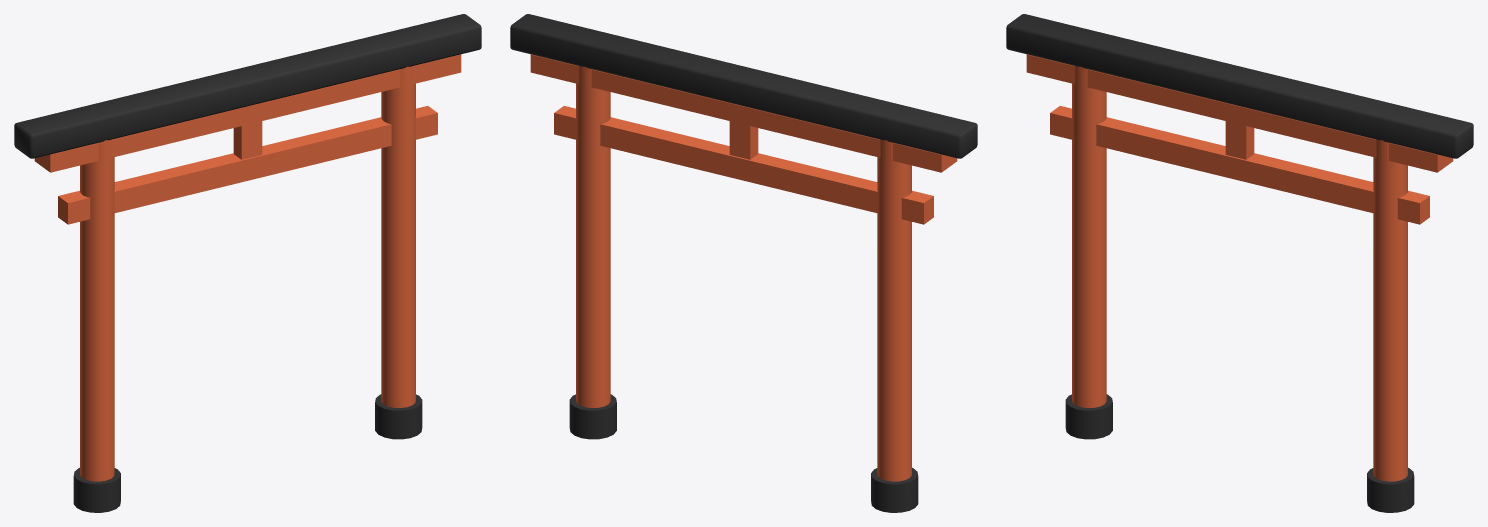
File: torii.glb
3 views of the same model, side by side, from view 1: azimuth 30°, elevation 25°; view 2: azimuth 150°, elevation 25°; view 3: azimuth 330°, elevation 25° (orthographic).
Visible parts, largest first — view 1: ToriiMesh; view 2: ToriiMesh; view 3: ToriiMesh.
Boxes of the visible parts, x1,y1,x2,y2 form: ToriiMesh: (14,14,481,512); ToriiMesh: (510,14,977,512); ToriiMesh: (1006,14,1473,512).
Size of the model in its own units: 6.6 by 5.48 by 0.6.
